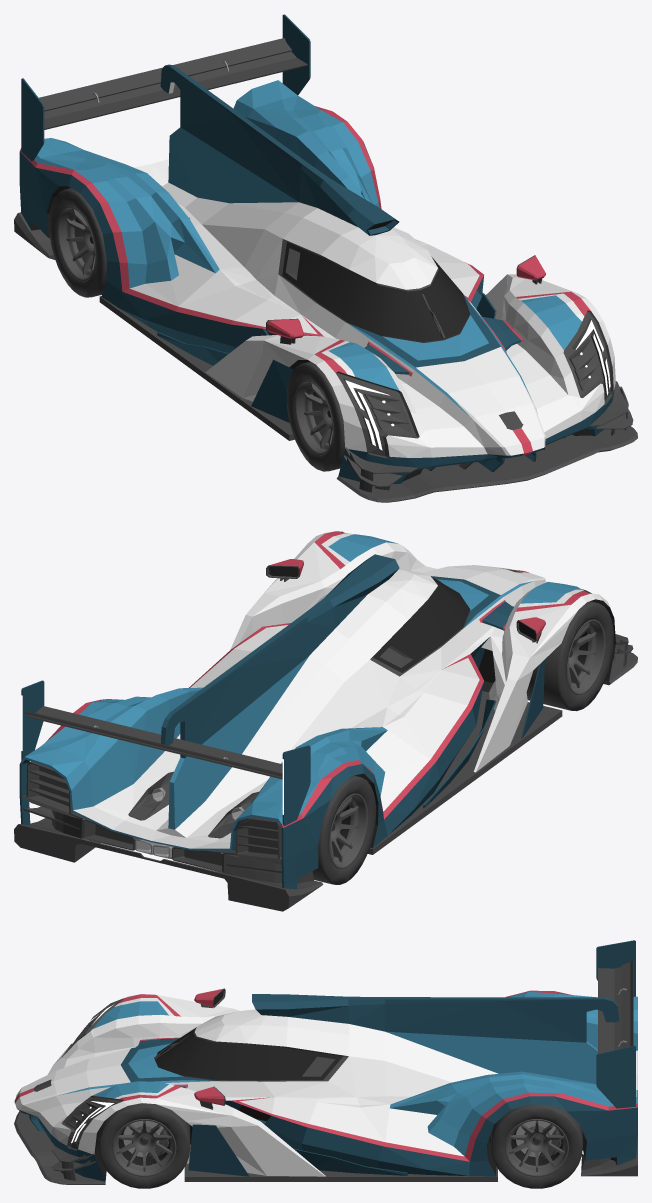
Rendered from poly-endurance.glb.
3 views of the same model, one above another, from view 1: azimuth 30°, elevation 25°; view 2: azimuth 150°, elevation 25°; view 3: azimuth 270°, elevation 25° (orthographic). The views are drawn at different scales.
Parts seen in each view (by area): view 1: body, wheel.001; view 2: body, wheel.001; view 3: body, wheel.001.
Part boxes in pixels (x1,y1,x2,y2): body: (14,14,637,502); wheel.001: (49,188,344,471); body: (14,531,637,911); wheel.001: (312,601,613,884); body: (14,940,637,1184); wheel.001: (98,1103,582,1188).
Size of the model in its own units: 1.97 by 1.17 by 4.67.
